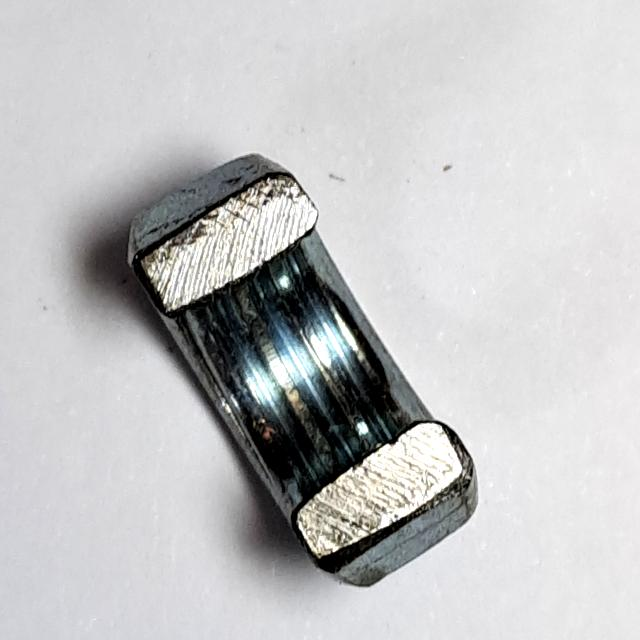Side-Fracture: (113, 137, 492, 605)
